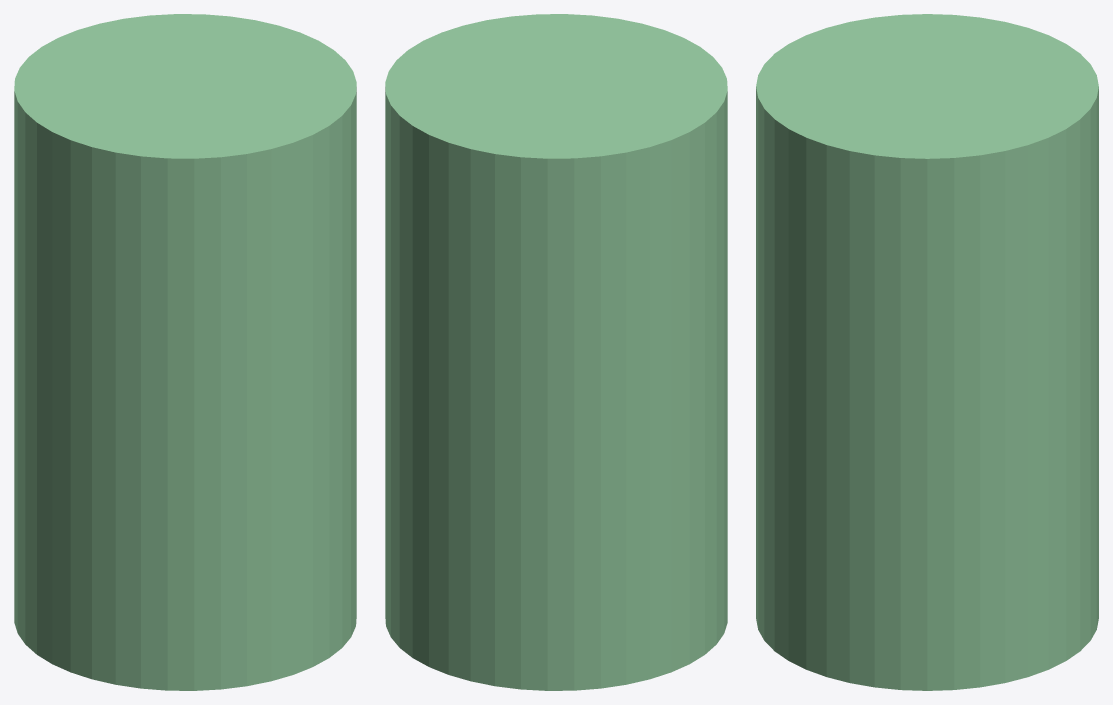
File: rec_glass_jar_0051.glb
3 views of the same model, side by side, from view 1: azimuth 30°, elevation 25°; view 2: azimuth 150°, elevation 25°; view 3: azimuth 270°, elevation 25° (orthographic).
Visible parts, largest first — view 1: z-up-to-y-up; view 2: z-up-to-y-up; view 3: z-up-to-y-up.
Part boxes in pixels (<box>): z-up-to-y-up: <box>14,14,356,690</box>; z-up-to-y-up: <box>385,14,727,690</box>; z-up-to-y-up: <box>756,14,1098,690</box>.
Size of the model in its own units: 0.0647 by 0.1108 by 0.0647.
